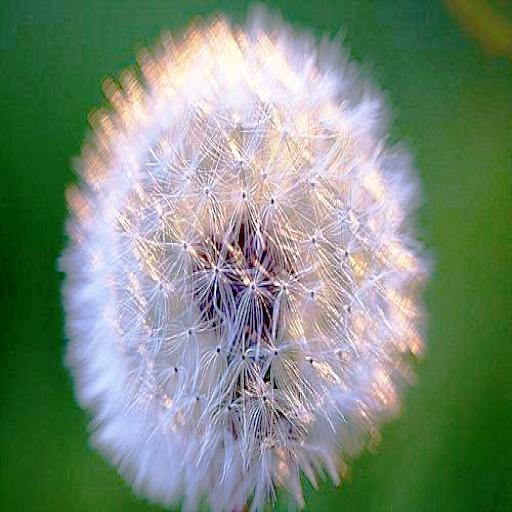dandelion: (58, 14, 430, 512)
